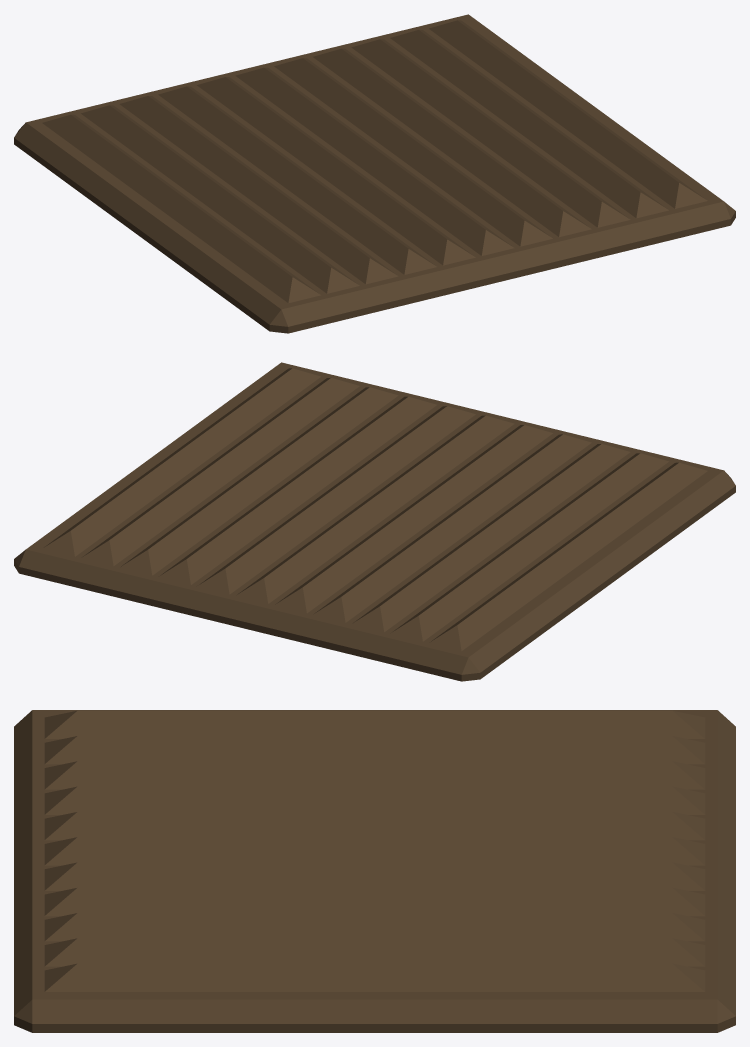
Rendered from MDL_plot_tilled_01.fbx.
3 renders of one model, top to bottom at view 1: azimuth 30°, elevation 25°; view 2: azimuth 150°, elevation 25°; view 3: azimuth 270°, elevation 25°, orthographic. The views are drawn at different scales.
Parts seen in each view (by area): view 1: MDL_plot_tilled_01; view 2: MDL_plot_tilled_01; view 3: MDL_plot_tilled_01.
Part boxes in pixels (x1=…): MDL_plot_tilled_01: x1=14, y1=14, x2=735, y2=333; MDL_plot_tilled_01: x1=14, y1=362, x2=735, y2=681; MDL_plot_tilled_01: x1=14, y1=710, x2=735, y2=1032.
Size of the model in its own units: 121 by 7.99 by 121.
